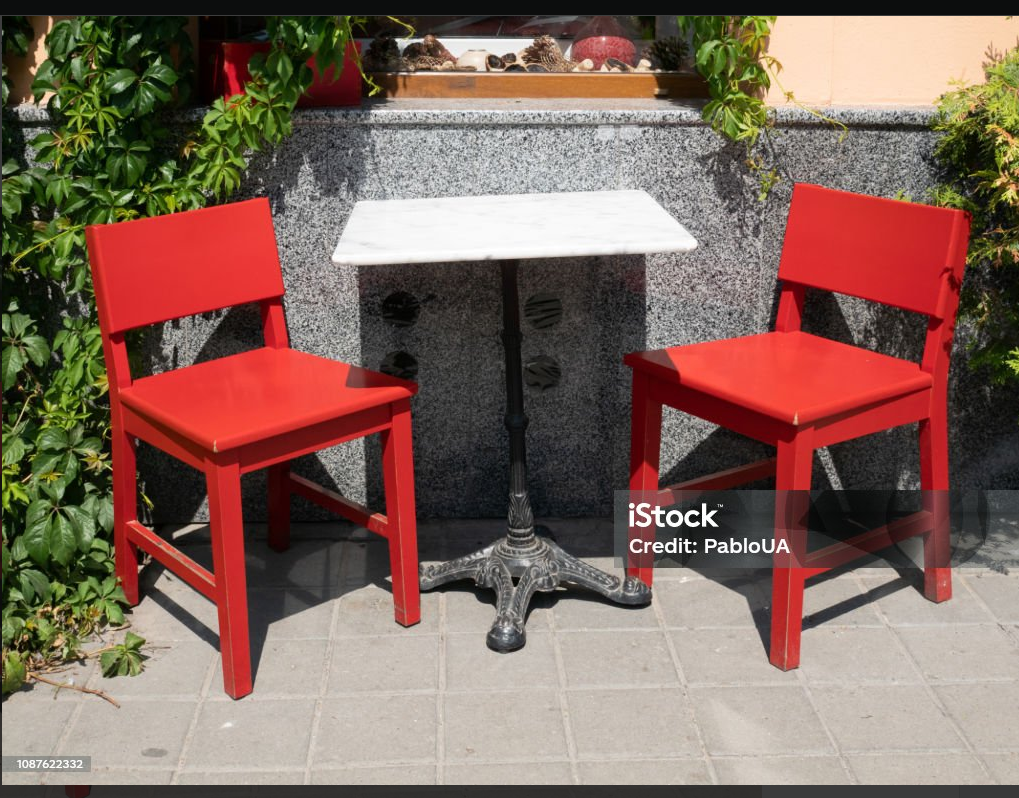obstacle: (625, 184, 983, 670), (81, 190, 424, 696), (336, 183, 699, 642)
